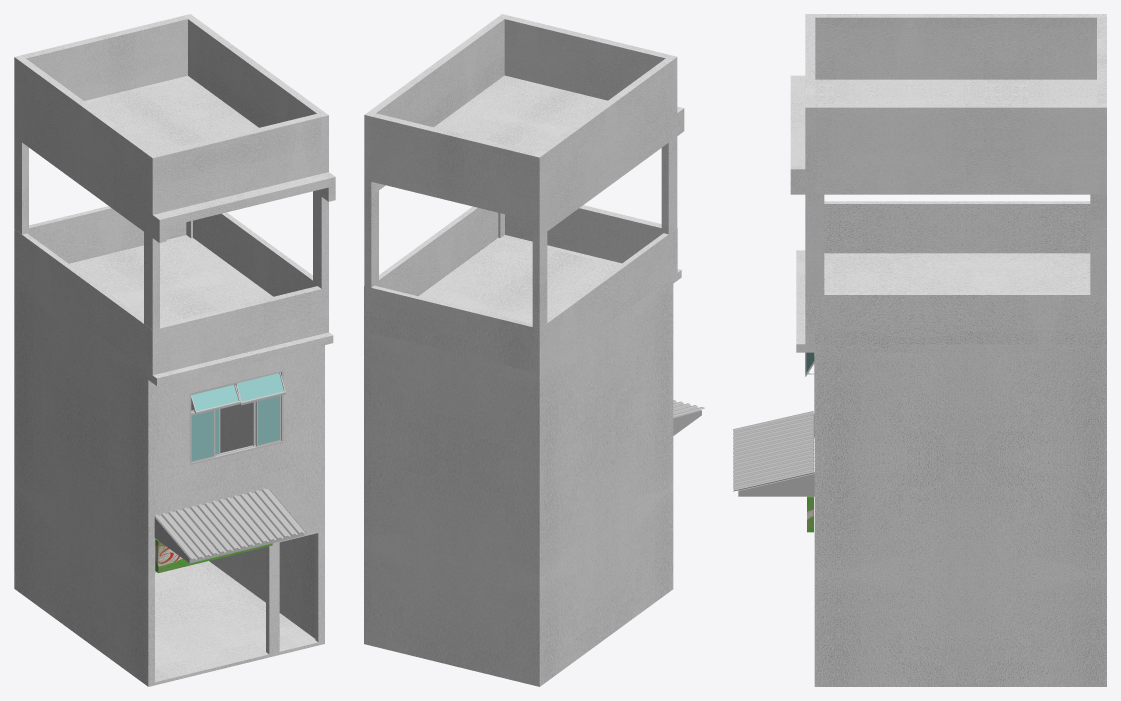
The model's file is Favela Store.fbx.
3 views of the same model, side by side, from view 1: azimuth 30°, elevation 25°; view 2: azimuth 150°, elevation 25°; view 3: azimuth 270°, elevation 25° (orthographic). The views are drawn at different scales.
Parts seen in each view (by area): view 1: House1, balcony, Rain_cover_roof, polySurface10 (×2), polySurface16 (×2), Window_frame, Rain_cover, Sign; view 2: House1, balcony; view 3: House1, balcony, Rain_cover_roof, Rain_cover.
Boxes of the visible parts, bbox=[...] form: House1: bbox=[14, 206, 333, 686]; balcony: bbox=[14, 14, 335, 329]; Rain_cover_roof: bbox=[154, 488, 306, 559]; polySurface10 (×2): bbox=[191, 396, 279, 461]; polySurface16 (×2): bbox=[191, 373, 283, 413]; Window_frame: bbox=[189, 370, 283, 464]; Rain_cover: bbox=[154, 517, 304, 563]; Sign: bbox=[155, 539, 272, 573]; House1: bbox=[364, 205, 681, 686]; balcony: bbox=[364, 14, 684, 328]; House1: bbox=[796, 201, 1106, 686]; balcony: bbox=[790, 14, 1106, 294]; Rain_cover_roof: bbox=[733, 411, 814, 491]; Rain_cover: bbox=[738, 413, 814, 496].
Bounding box in the file's own units: 16.7 × 48.09 × 28.14.
